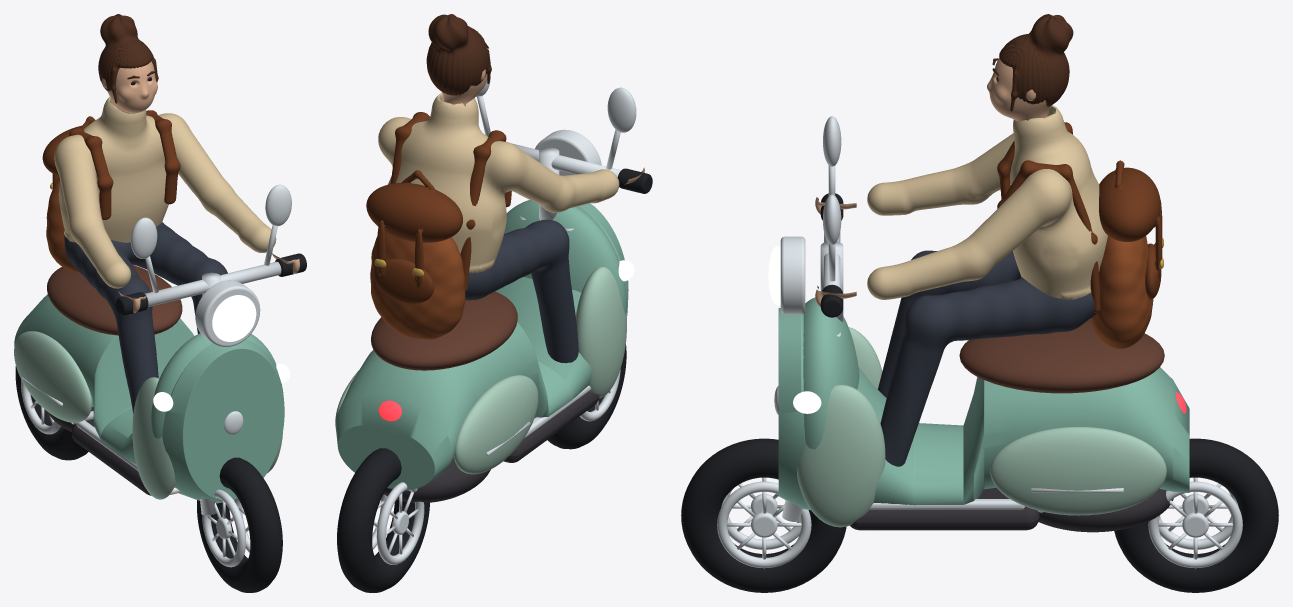
File: rider.glb
3 renders of one model, left to right at view 1: azimuth 30°, elevation 25°; view 2: azimuth 150°, elevation 25°; view 3: azimuth 270°, elevation 25°, orthographic. The views are drawn at different scales.
Parts seen in each view (by area): view 1: Coque_principale, veste, jean, Pneu, Panneau_lateral_moteur.001, Selle_cuir, rabat, Joue_laterale_tablier.001, cheveux, Tablier_avant_enveloppant, Contour_phare, tete (+12 smaller); view 2: Coque_principale, veste, rabat, jean, Pneu.001, Selle_cuir, sac, Panneau_lateral_moteur.001, Joue_laterale_tablier.001, cheveux, Tablier_avant_enveloppant, Carter_moteur (+10 smaller); view 3: Coque_principale, veste, jean, Panneau_lateral_moteur, Pneu, Selle_cuir, Pneu.001, Joue_laterale_tablier, rabat, sac, Tablier_avant_enveloppant, cheveux (+12 smaller).
Part boxes in pixels (x1=…): Coque_principale: x1=14, y1=294, x2=284, y2=503; veste: x1=54, y1=97, x2=276, y2=288; jean: x1=64, y1=222, x2=227, y2=413; Pneu: x1=197, y1=457, x2=282, y2=592; Panneau_lateral_moteur.001: x1=14, y1=331, x2=92, y2=422; Selle_cuir: x1=47, y1=265, x2=182, y2=335; rabat: x1=42, y1=110, x2=180, y2=240; Joue_laterale_tablier.001: x1=132, y1=377, x2=175, y2=499; cheveux: x1=98, y1=14, x2=158, y2=103; Tablier_avant_enveloppant: x1=151, y1=333, x2=276, y2=438; Contour_phare: x1=195, y1=280, x2=260, y2=346; tete: x1=102, y1=61, x2=157, y2=113; Coque_principale: x1=335, y1=203, x2=628, y2=489; veste: x1=378, y1=93, x2=619, y2=272; rabat: x1=366, y1=112, x2=511, y2=303; jean: x1=465, y1=219, x2=578, y2=363; Pneu.001: x1=337, y1=448, x2=429, y2=592; Selle_cuir: x1=371, y1=291, x2=517, y2=370; sac: x1=370, y1=231, x2=465, y2=339; Panneau_lateral_moteur.001: x1=454, y1=375, x2=538, y2=474; Joue_laterale_tablier.001: x1=575, y1=267, x2=626, y2=398; cheveux: x1=426, y1=14, x2=491, y2=95; Tablier_avant_enveloppant: x1=504, y1=200, x2=626, y2=314; Carter_moteur: x1=384, y1=458, x2=490, y2=502; Coque_principale: x1=778, y1=308, x2=1189, y2=510; veste: x1=867, y1=105, x2=1107, y2=299; jean: x1=878, y1=250, x2=1096, y2=466; Panneau_lateral_moteur: x1=990, y1=427, x2=1166, y2=515; Pneu: x1=681, y1=438, x2=846, y2=592; Selle_cuir: x1=959, y1=319, x2=1164, y2=393; Pneu.001: x1=1114, y1=438, x2=1278, y2=592; Joue_laterale_tablier: x1=797, y1=384, x2=885, y2=527; rabat: x1=997, y1=122, x2=1162, y2=312; sac: x1=1090, y1=235, x2=1153, y2=348; Tablier_avant_enveloppant: x1=803, y1=297, x2=859, y2=449; cheveux: x1=999, y1=14, x2=1073, y2=111.
Bounding box in the file's own units: 0.738 × 1.85 × 1.75.
